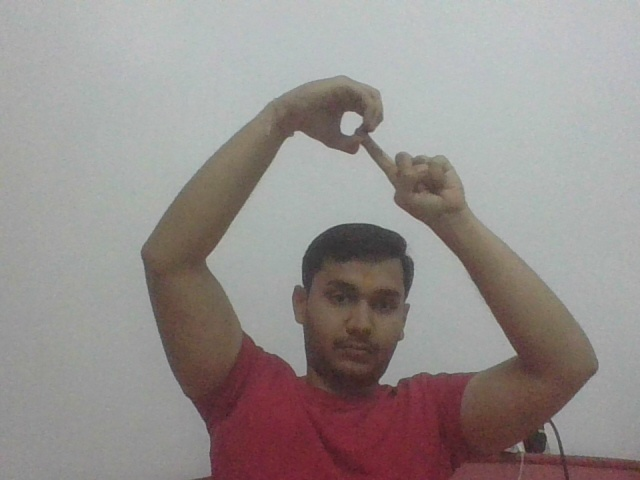Q: (306, 76, 438, 213)
